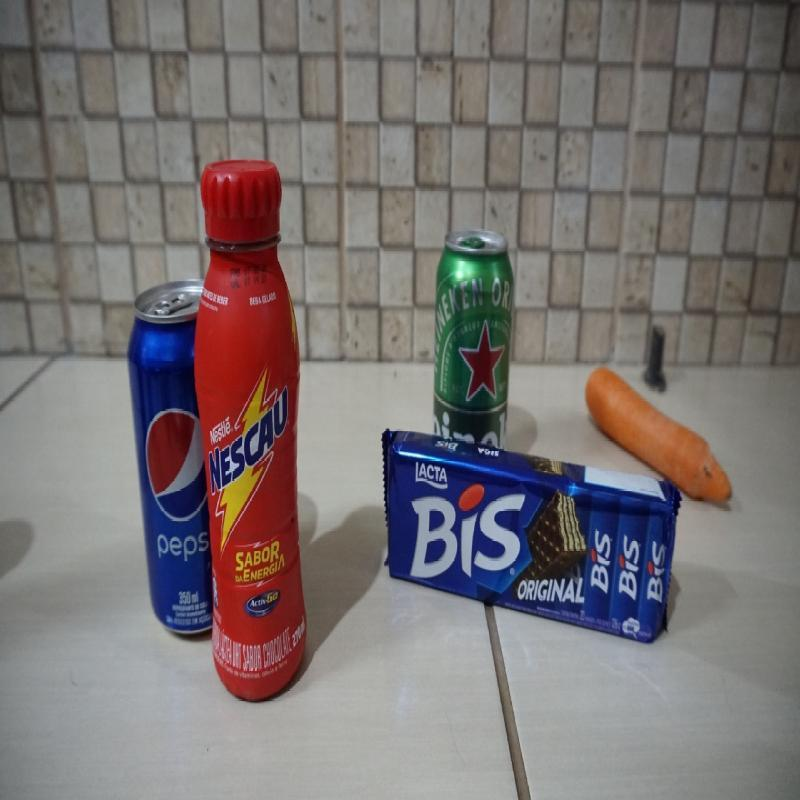Beer can: (431, 227, 516, 452)
Carrot: (586, 368, 736, 504)
Chocolate Milk: (193, 159, 307, 704)
Soda can: (129, 278, 215, 636)
